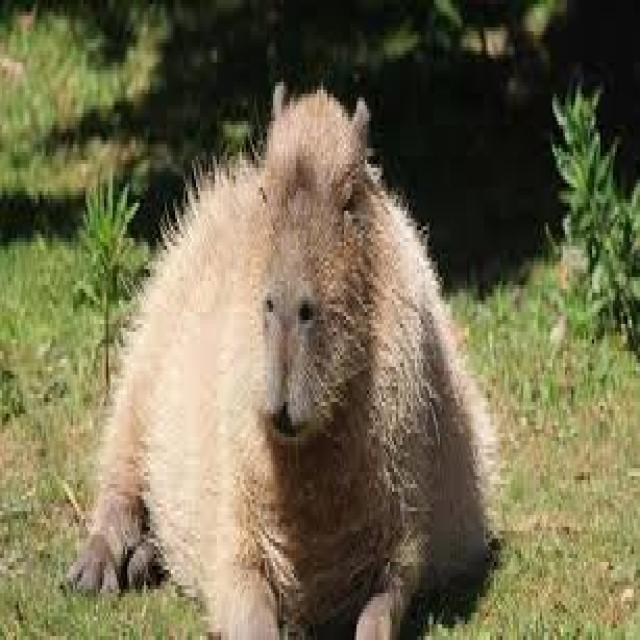capy: (68, 79, 500, 640)
